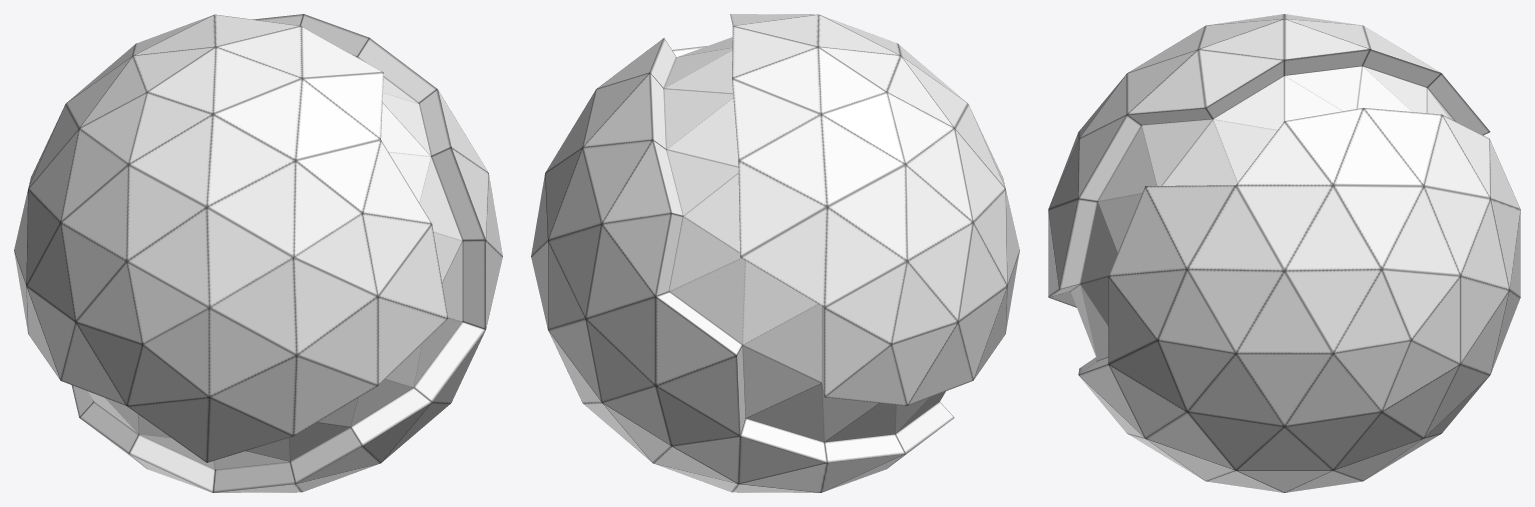
The model's file is Planet-01.fbx.
3 views of the same model, side by side, from view 1: azimuth 30°, elevation 25°; view 2: azimuth 150°, elevation 25°; view 3: azimuth 270°, elevation 25° (orthographic).
Parts seen in each view (by area): view 1: Planet_01; view 2: Planet_01; view 3: Planet_01.
Part boxes in pixels (x1,y1,x2,y2): Planet_01: [14, 14, 502, 492]; Planet_01: [531, 14, 1019, 492]; Planet_01: [1048, 14, 1520, 492].
Size of the model in its own units: 7.02 by 7.02 by 7.02.
